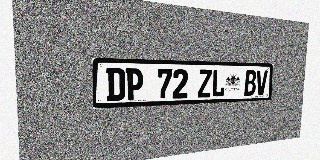2: (172, 69, 188, 99)
7: (156, 69, 172, 99)
B: (244, 70, 256, 96)
D: (106, 68, 125, 101)
L: (211, 69, 225, 97)
P: (125, 68, 143, 100)
V: (255, 70, 268, 95)
Z: (197, 69, 212, 98)
